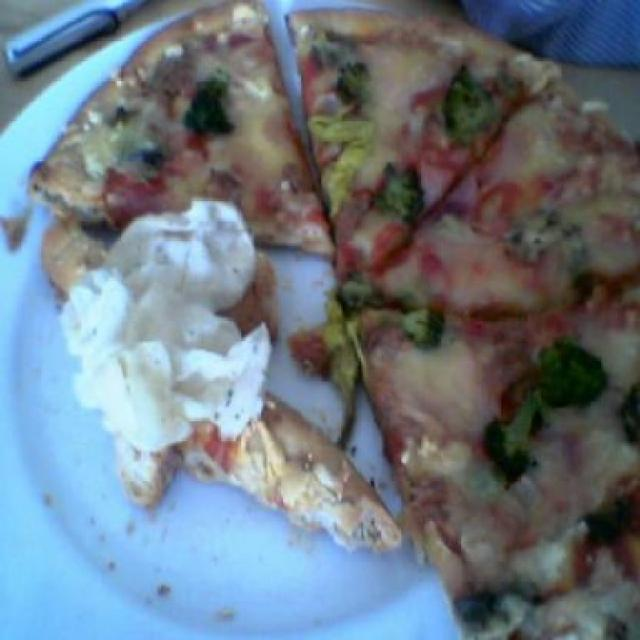Pizza: (12, 0, 637, 602)
